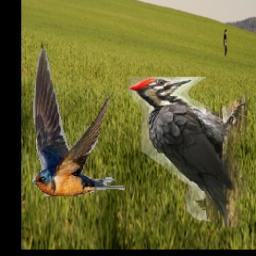Swallow: (32, 47, 125, 197)
Woodpecker: (128, 78, 247, 228)
